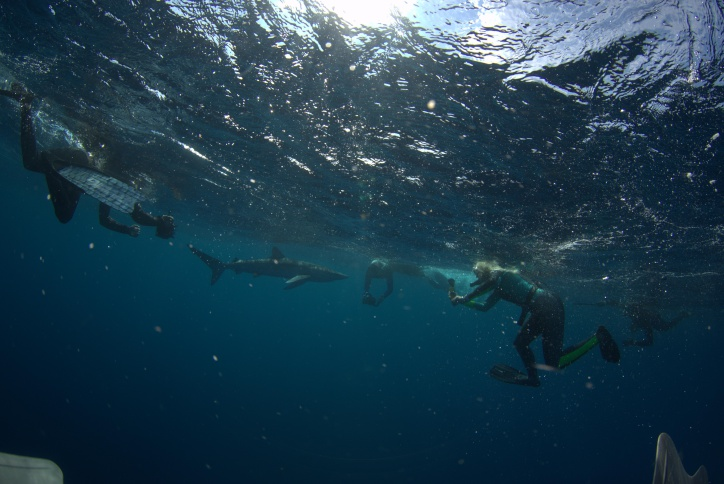Azul: (179, 227, 358, 306)
